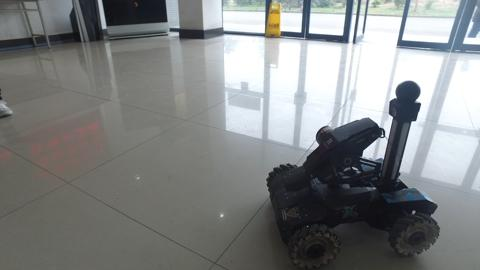chariot: (265, 78, 441, 268)
